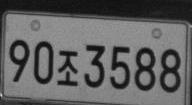0: (32, 40, 54, 84)
3: (83, 44, 105, 87)
5: (109, 46, 131, 89)
8: (133, 46, 156, 91), (159, 48, 182, 93)
9: (8, 38, 30, 82)
조: (57, 49, 78, 86)
